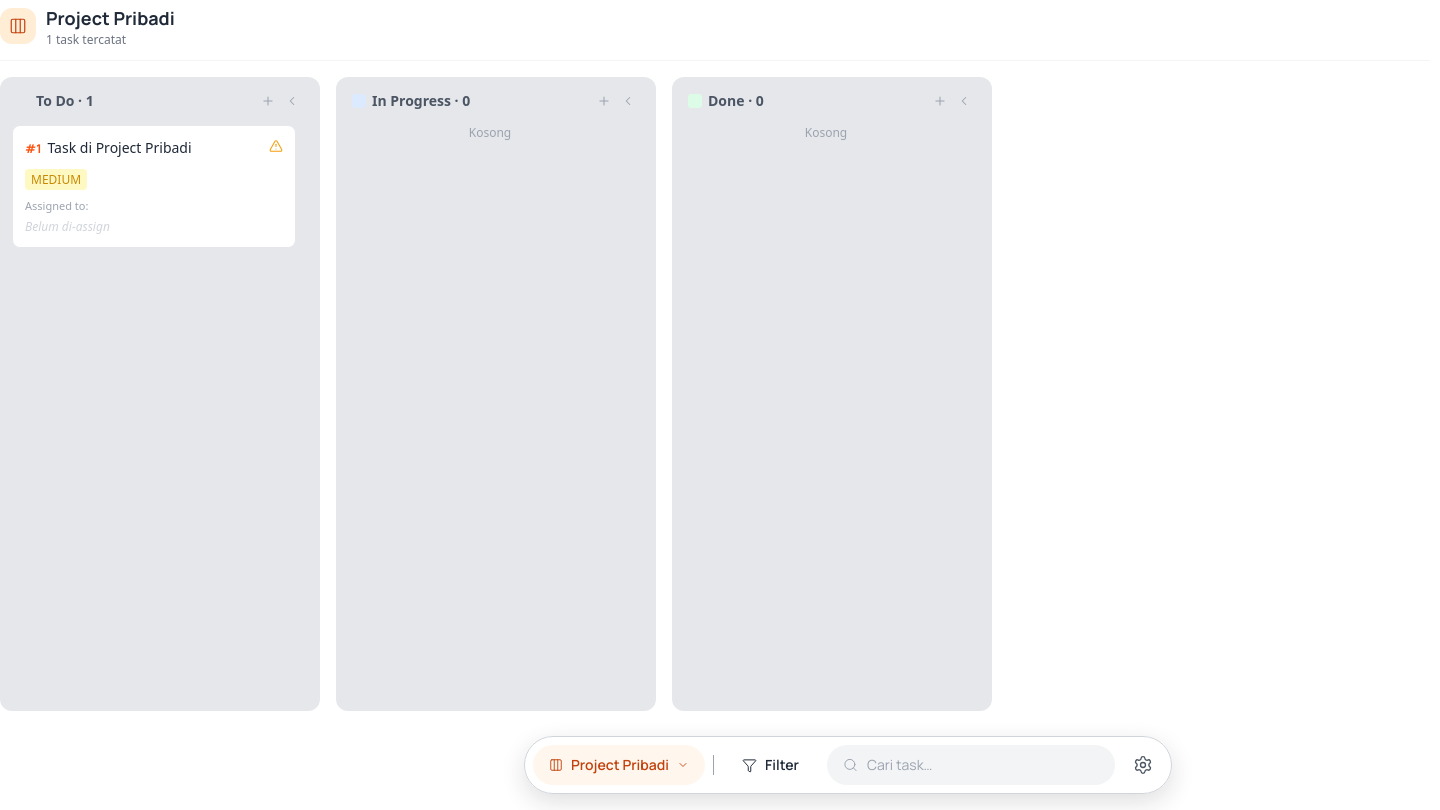
Test: PersonalProjectKanbanView — Project Switcher Dropup & Real-Time Board › dapat membuat project pribadi baru dari tombol di dalam dropup
Click the button with aria-label "pilih project pribadi": (619, 765) top-left (533, 745), bottom-right (705, 785)
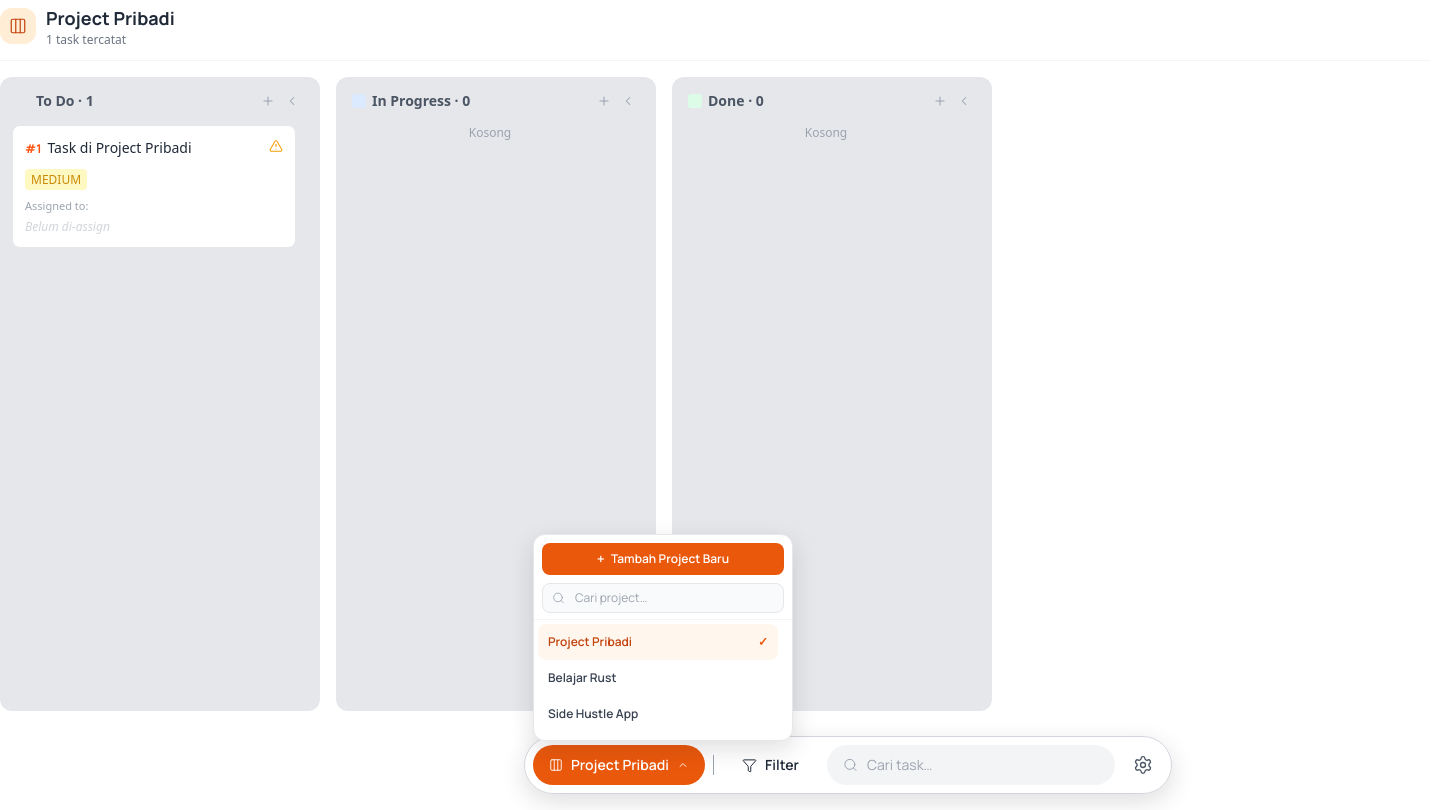
Click the button "+ Tambah Project Baru": (663, 559) top-left (542, 543), bottom-right (784, 575)
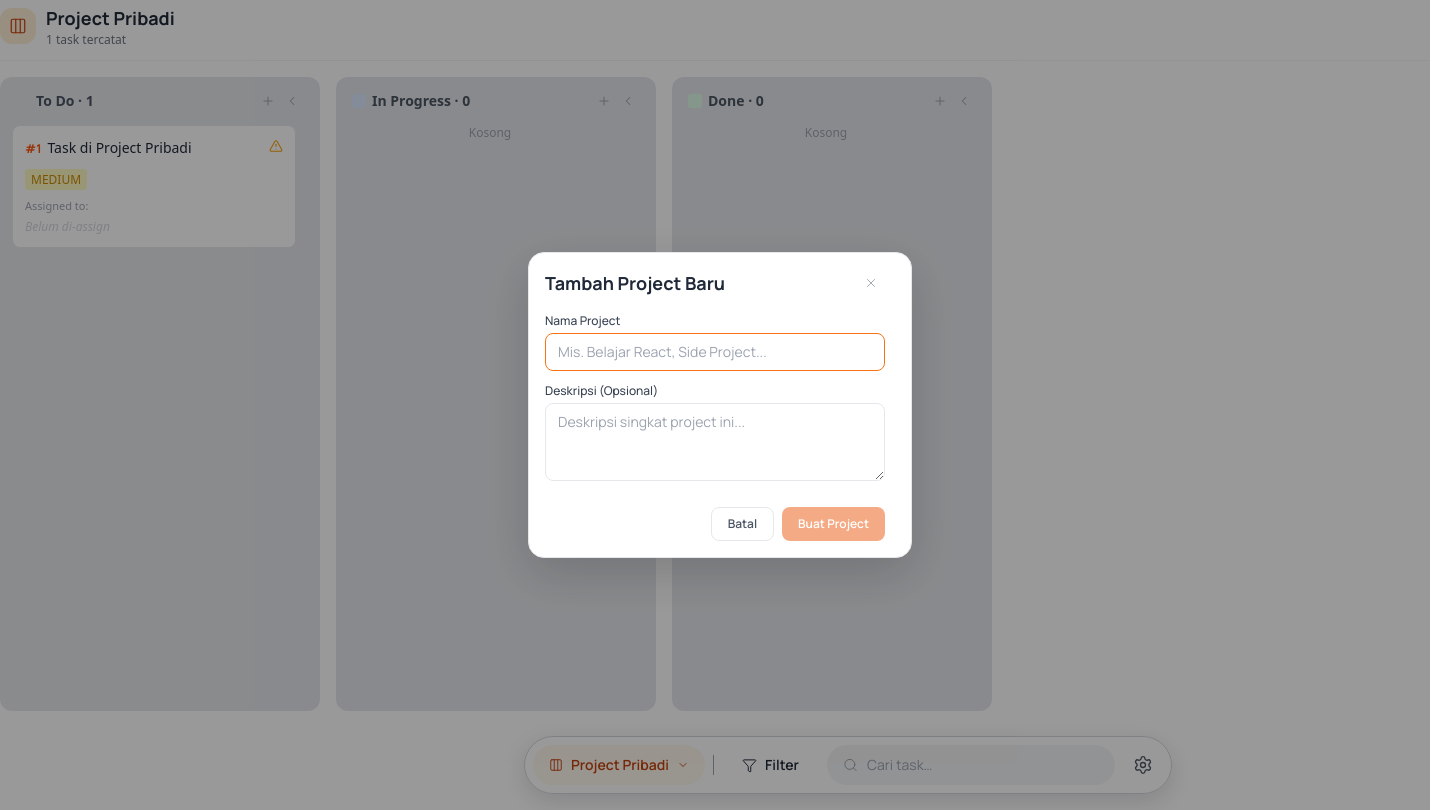
// Modal tambah project baru terbuka
In the field labelled "Nama Project": (715, 352) top-left (545, 333), bottom-right (885, 371), type "Project Skripsi"
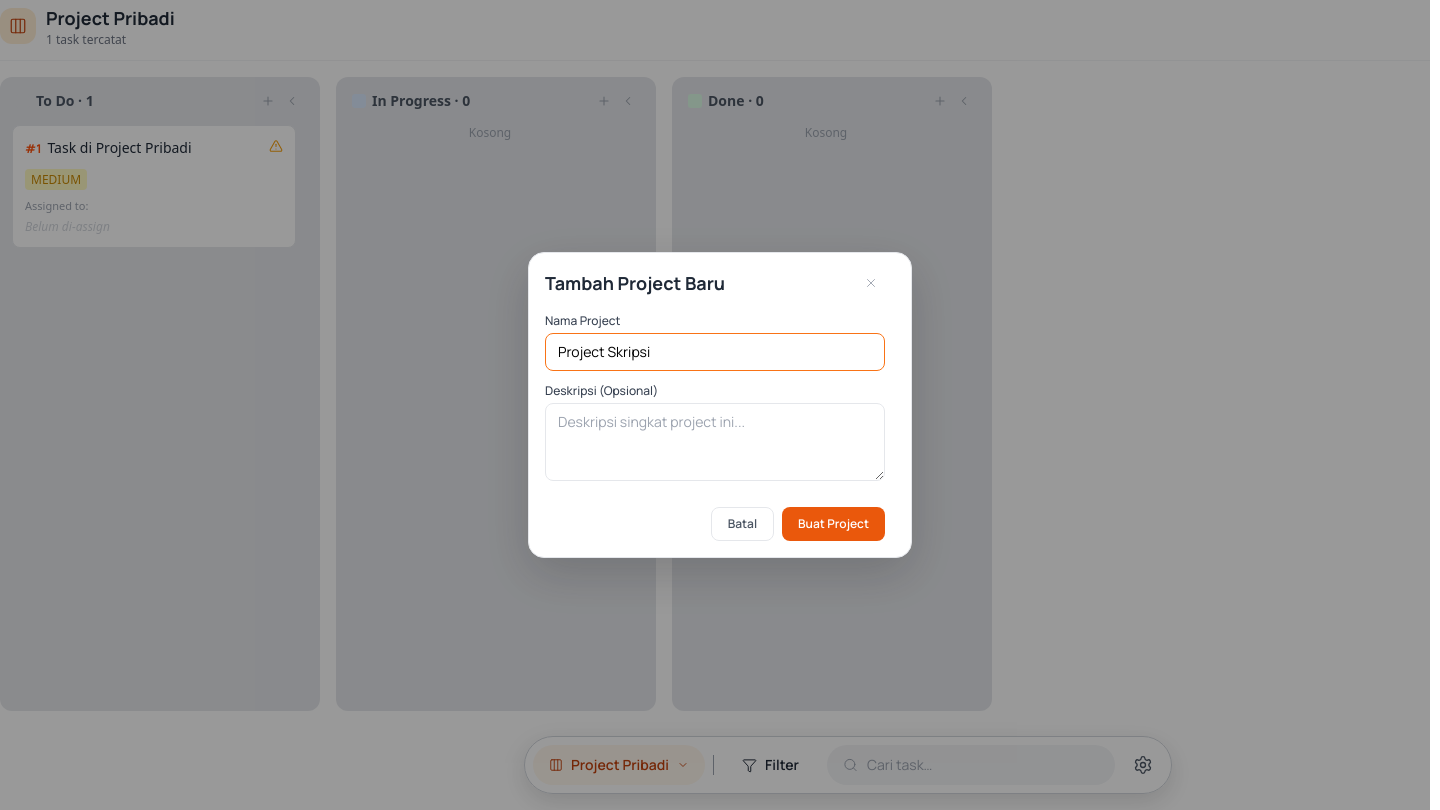
Click the button "Buat Project": (834, 524) top-left (782, 507), bottom-right (885, 541)
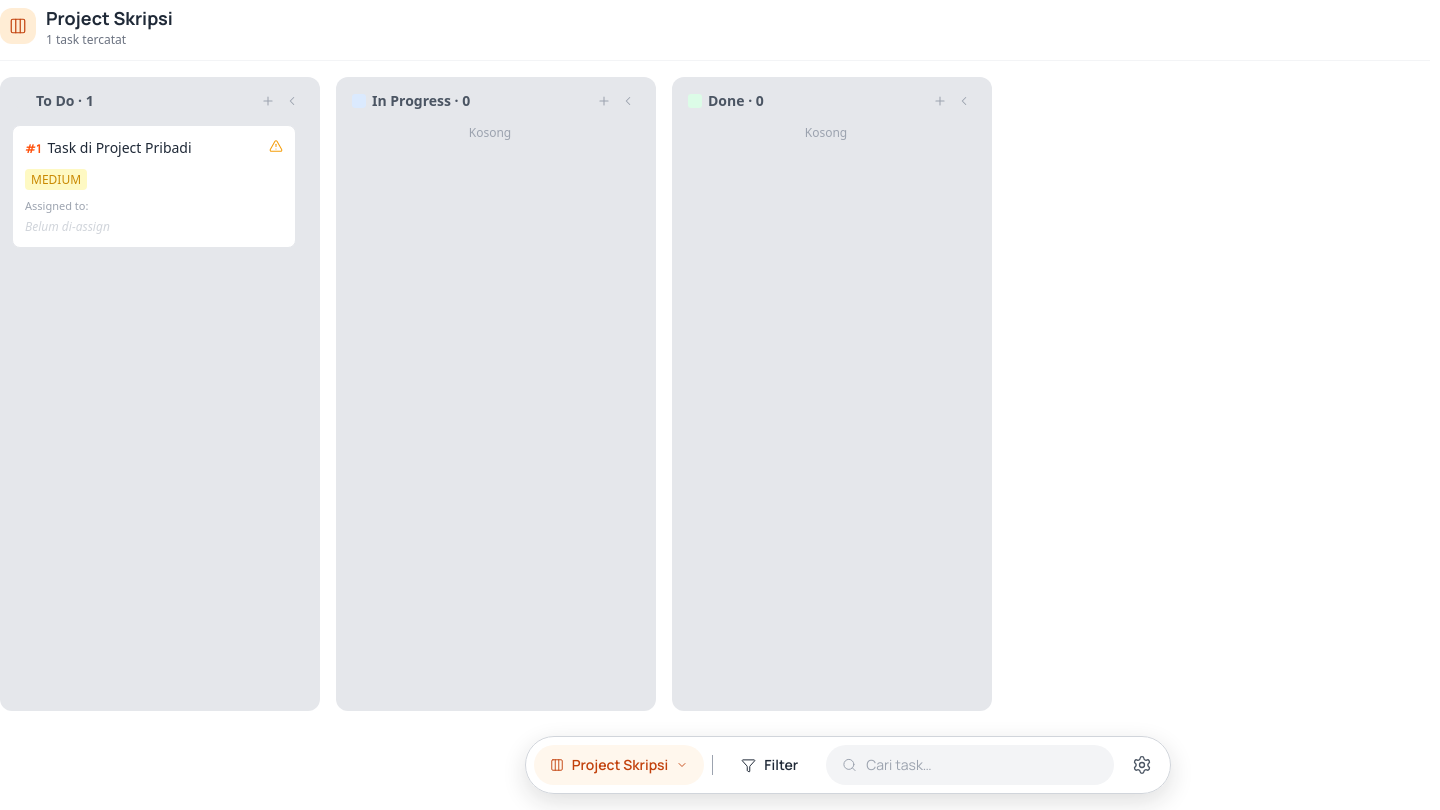
Check: the button with aria-label "pilih project pribadi" reads "Project Skripsi", box top-left (534, 745), bottom-right (704, 785)
